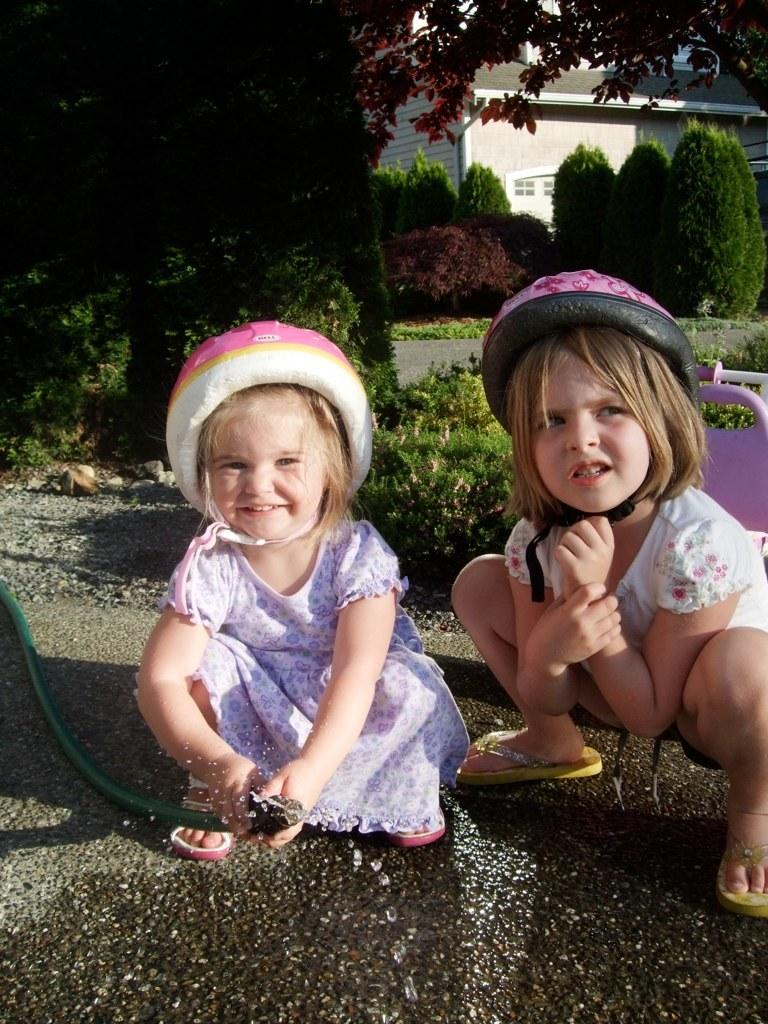Hat: (168, 324, 402, 496), (470, 262, 720, 398)
